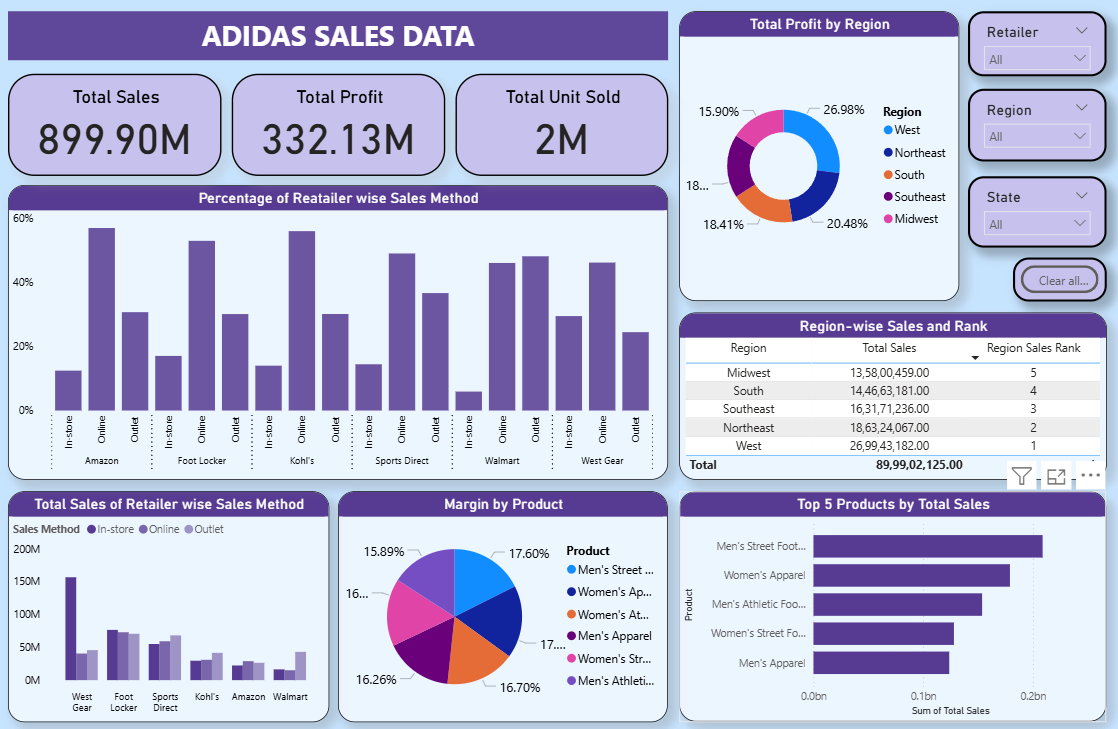

The dashboard page shown, as its layout file describes it:
{"tool":"powerbi","page":{"name":"Page 1","canvas":[1280,840],"ordinal":0},"visuals":[{"type":"textbox","box":[11.4,12.9,754.3,55.7],"z":0},{"type":"clusteredColumnChart","title":"Total Sales of Retailer wise Sales Method","fields":{"Category":["Data Sales Adidas.Retailer"],"Series":["Adidas_Sales_Data.Sales Method"],"Y":["Sum(Adidas_Sales_Data.Total Sales)"]},"box":[11.4,561.4,367.1,264.3],"z":1000},{"type":"clusteredColumnChart","title":"Percentage of Reatailer wise Sales Method","fields":{"Category":["Adidas_Sales_Data.Retailer","Adidas_Sales_Data.Sales Method"],"Y":["Adidas_Sales_Data.% Sales Method"]},"box":[11.4,211.4,754.3,337.1],"z":2000},{"type":"donutChart","title":"Total Profit by Region","fields":{"Category":["Adidas_Sales_Data.Region"],"Y":["Sum(Adidas_Sales_Data.Total Profit)"]},"box":[778.6,12.9,320,331.4],"z":3000},{"type":"pieChart","title":"Margin by Product","fields":{"Category":["Adidas_Sales_Data.Product"],"Y":["Sum(Adidas_Sales_Data.Margin)"]},"box":[388.6,561.4,377.1,264.3],"z":4000},{"type":"slicer","fields":{"Values":["Adidas_Sales_Data.Retailer"]},"box":[1108.6,12.9,158.6,74.3],"z":5000},{"type":"slicer","fields":{"Values":["Adidas_Sales_Data.State"]},"box":[1108.6,201.4,158.6,81.4],"z":6000},{"type":"slicer","fields":{"Values":["Adidas_Sales_Data.Region"]},"box":[1108.6,101.4,158.6,82.9],"z":7000},{"type":"actionButton","box":[1160,294.3,107.1,50],"z":8000},{"type":"card","title":"Total Sales","fields":{"Values":["Adidas_Sales_Data.Total Sales"]},"box":[11.4,84.3,244.3,117.1],"z":9000},{"type":"card","title":"Total Profit","fields":{"Values":["Sum(Adidas_Sales_Data.Total Profit)"]},"box":[267.1,84.3,244.3,117.1],"z":10000},{"type":"card","title":"Total Unit Sold","fields":{"Values":["Sum(Adidas_Sales_Data.Units Sold)"]},"box":[522.9,84.3,242.9,117.1],"z":11000},{"type":"tableEx","title":"Region-wise Sales and Rank","fields":{"Values":["Adidas_Sales_Data.Region","Adidas_Sales_Data.Total Sales","Adidas_Sales_Data.Region Sales Rank"]},"box":[778.6,357.1,488.6,191.4],"z":12000},{"type":"clusteredBarChart","title":"Top 5 Products by Total Sales","fields":{"Category":["Top5ProductsTable.Product"],"Y":["Sum(Top5ProductsTable.Total Sales)"]},"box":[778.3,561.7,488.3,263.3],"z":13000}]}

Visuals, with their boxes in screenshot pixels (x1, y1, x2, y2), scaled from the page's 1280x840 canvas onto the 1118x729 screenshot:
textbox: (left=10, top=11, right=669, bottom=60)
"Total Sales of Retailer wise Sales Method" clusteredColumnChart: (left=10, top=487, right=331, bottom=717)
"Percentage of Reatailer wise Sales Method" clusteredColumnChart: (left=10, top=183, right=669, bottom=476)
"Total Profit by Region" donutChart: (left=680, top=11, right=960, bottom=299)
"Margin by Product" pieChart: (left=339, top=487, right=669, bottom=717)
slicer - Adidas_Sales_Data.Retailer: (left=968, top=11, right=1107, bottom=76)
slicer - Adidas_Sales_Data.State: (left=968, top=175, right=1107, bottom=245)
slicer - Adidas_Sales_Data.Region: (left=968, top=88, right=1107, bottom=160)
actionButton: (left=1013, top=255, right=1107, bottom=299)
"Total Sales" card: (left=10, top=73, right=223, bottom=175)
"Total Profit" card: (left=233, top=73, right=447, bottom=175)
"Total Unit Sold" card: (left=457, top=73, right=669, bottom=175)
"Region-wise Sales and Rank" tableEx: (left=680, top=310, right=1107, bottom=476)
"Top 5 Products by Total Sales" clusteredBarChart: (left=680, top=487, right=1106, bottom=716)
